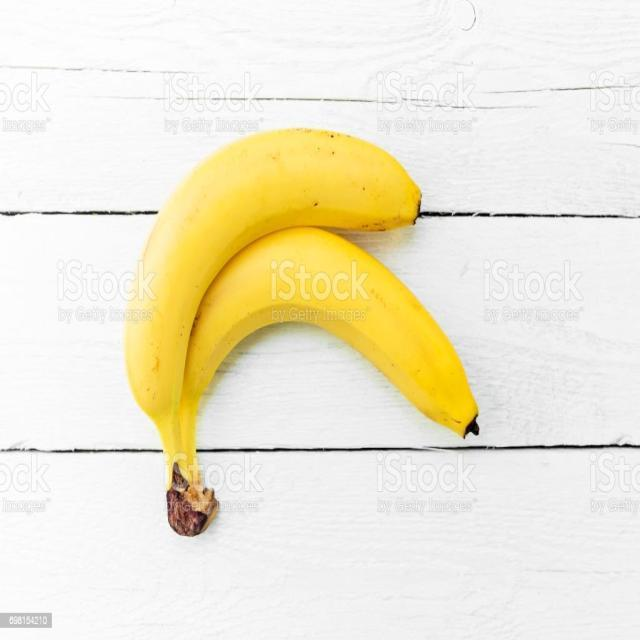banana: (122, 126, 484, 544)
